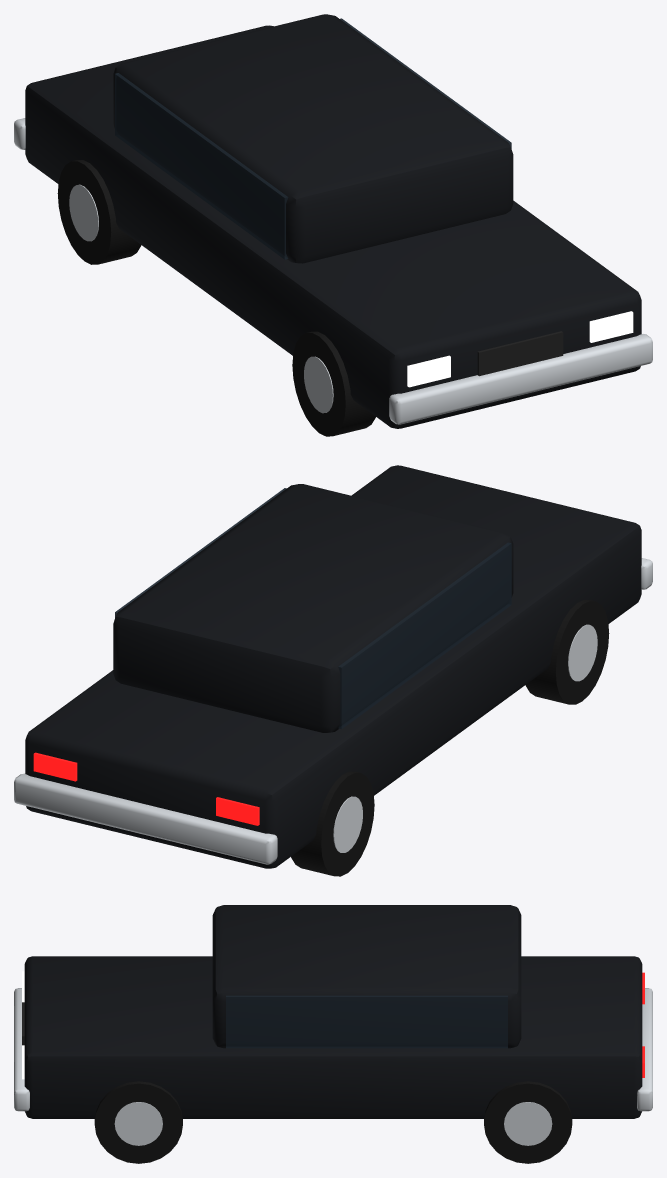
Rendered from blackcar.glb.
3 views of the same model, one above another, from view 1: azimuth 30°, elevation 25°; view 2: azimuth 150°, elevation 25°; view 3: azimuth 270°, elevation 25° (orthographic). The views are drawn at different scales.
Visible parts, largest first — view 1: car, Cylinder.002, Cylinder, Cylinder.001, Cylinder.003; view 2: car, Cylinder.002, Cylinder, Cylinder.001, Cylinder.003; view 3: car, Cylinder.004, Cylinder.006, Cylinder.005, Cylinder.007.
Boxes of the visible parts, box(x1,y1,x2,y2) form: car: box(14, 14, 652, 428); Cylinder.002: box(57, 160, 141, 264); Cylinder: box(292, 331, 375, 436); Cylinder.001: box(304, 356, 333, 413); Cylinder.003: box(69, 184, 98, 241); car: box(14, 465, 652, 868); Cylinder.002: box(291, 771, 374, 876); Cylinder: box(525, 600, 609, 704); Cylinder.001: box(568, 624, 597, 681); Cylinder.003: box(333, 796, 362, 852); car: box(14, 905, 652, 1118); Cylinder.004: box(94, 1081, 182, 1163); Cylinder.006: box(484, 1081, 572, 1163); Cylinder.005: box(114, 1102, 162, 1145); Cylinder.007: box(504, 1102, 552, 1145).
Bounding box in the file's own units: 1.89 × 1.35 × 4.76.
